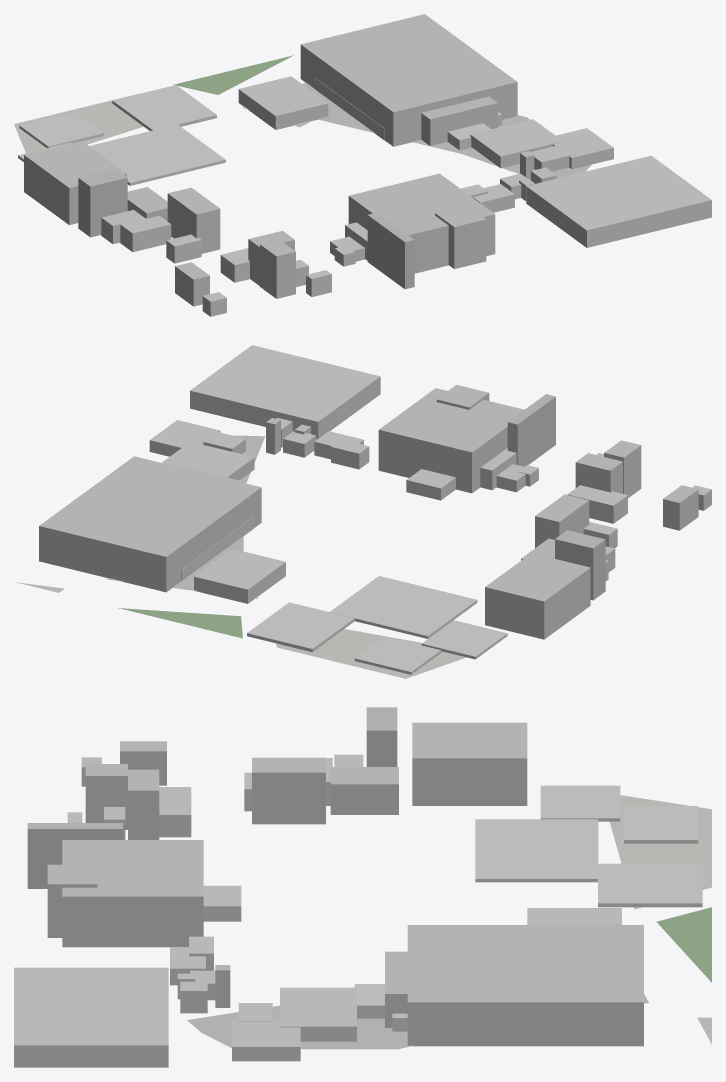
Rendered from 133_102_mid.glb.
3 renders of one model, top to bottom at view 1: azimuth 30°, elevation 25°; view 2: azimuth 150°, elevation 25°; view 3: azimuth 270°, elevation 25°, orthographic. The views are drawn at different scales.
Bounding box in the file's own units: 558 × 56.18 × 545.
